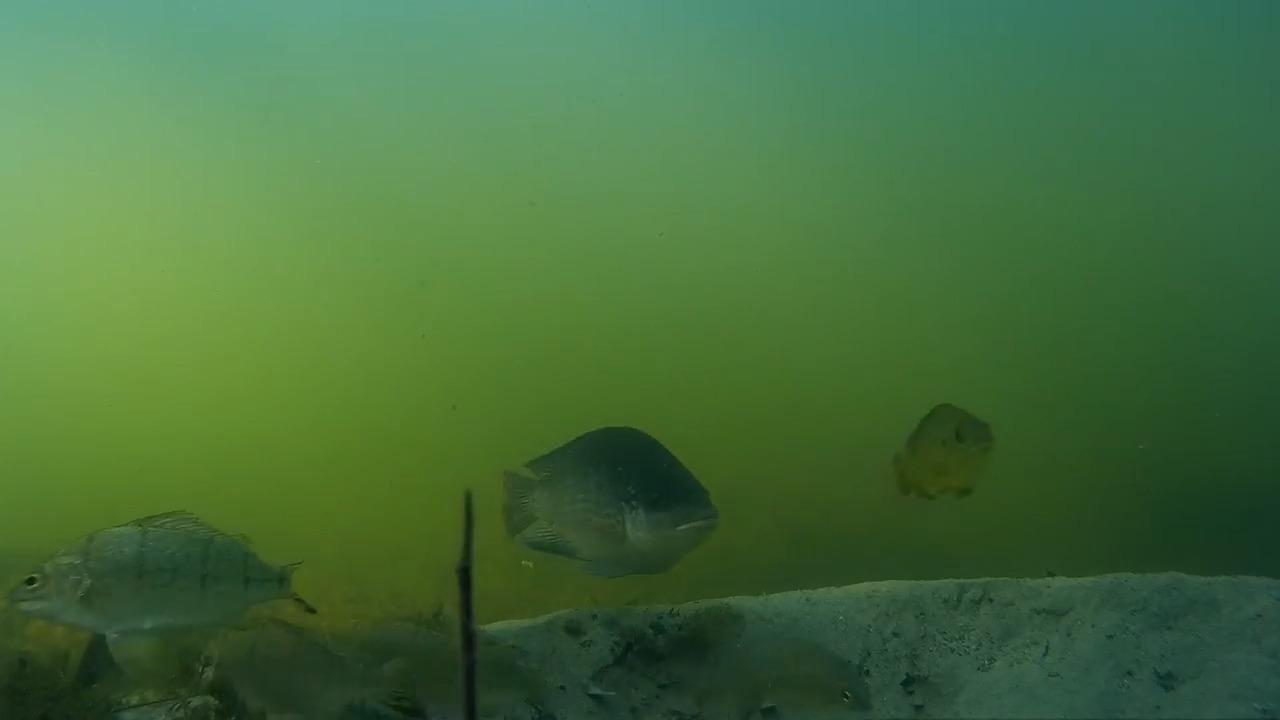Tilapia: (0, 509, 324, 643), (487, 421, 740, 589), (206, 606, 431, 720), (666, 632, 883, 718), (878, 401, 1015, 510)
